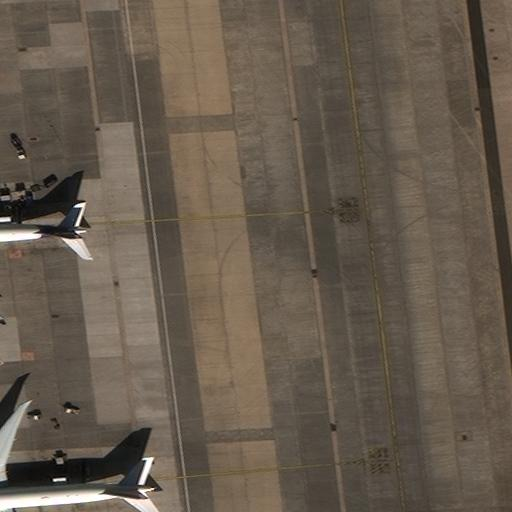Large Civil Transport: (0, 404, 157, 511), (0, 167, 86, 315)
